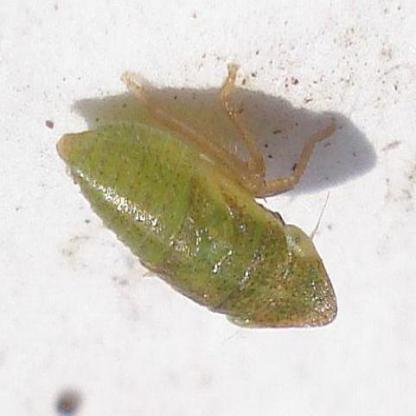green-leafhopper: (62, 56, 340, 330)
